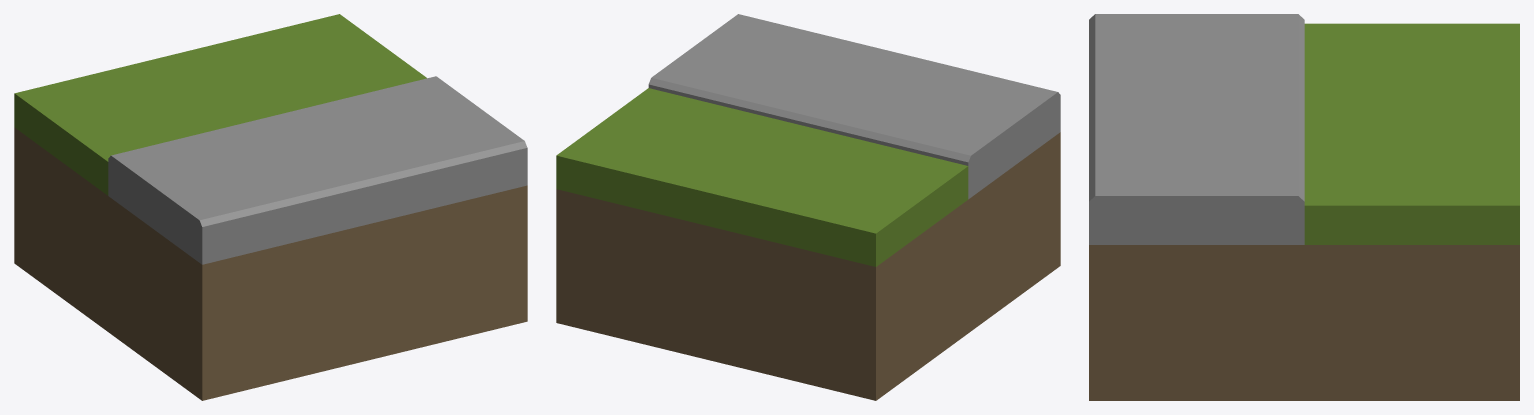
The model's file is Tile_SideWalk_01.fbx.
3 views of the same model, side by side, from view 1: azimuth 30°, elevation 25°; view 2: azimuth 150°, elevation 25°; view 3: azimuth 270°, elevation 25° (orthographic). The views are drawn at different scales.
Visible parts, largest first — view 1: Cube.002; view 2: Cube.002; view 3: Cube.002.
Part boxes in pixels (<box>): Cube.002: <box>14,14,527,400</box>; Cube.002: <box>556,14,1060,400</box>; Cube.002: <box>1089,14,1519,400</box>.
Size of the model in its own units: 200 by 105 by 200.
